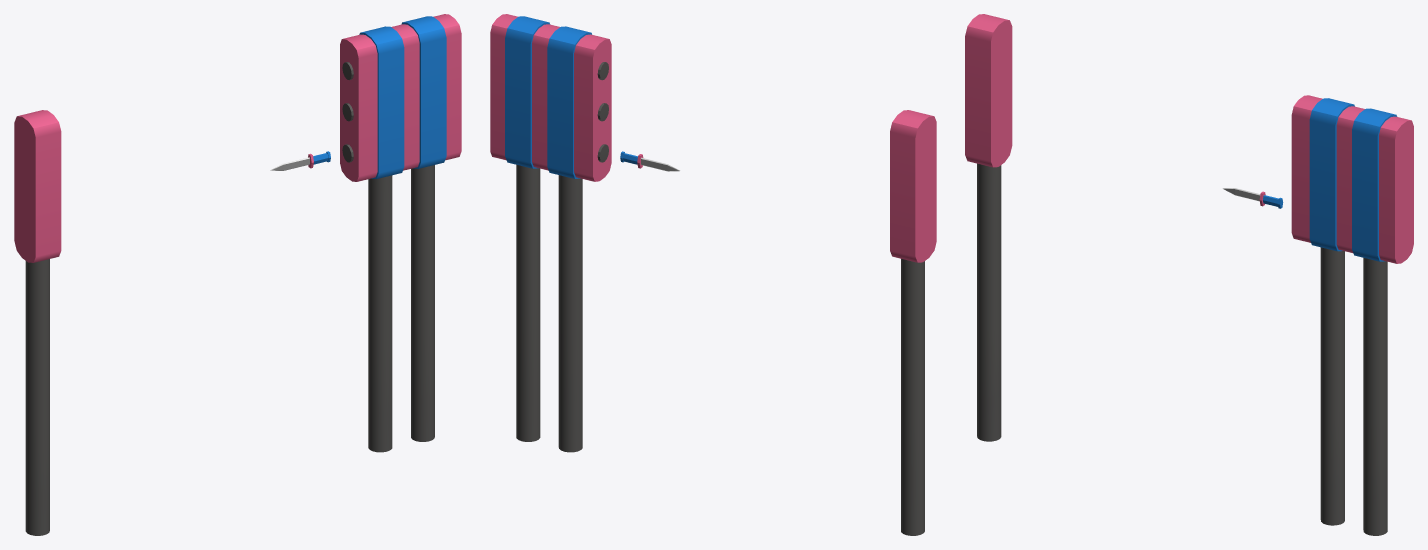
Rendered from trap_018.fbx.
The picture shows the model from 3 angles, left to right: view 1: azimuth 30°, elevation 25°; view 2: azimuth 150°, elevation 25°; view 3: azimuth 330°, elevation 25°; orthographic projection.
Visible parts, largest first — view 1: trap_018; view 2: trap_018; view 3: trap_018.
Boxes of the visible parts, <box> form: trap_018: <box>14,14,461,535</box>; trap_018: <box>490,14,936,535</box>; trap_018: <box>965,14,1413,535</box>.
Size of the model in its own units: 2209 by 2053 by 191.
